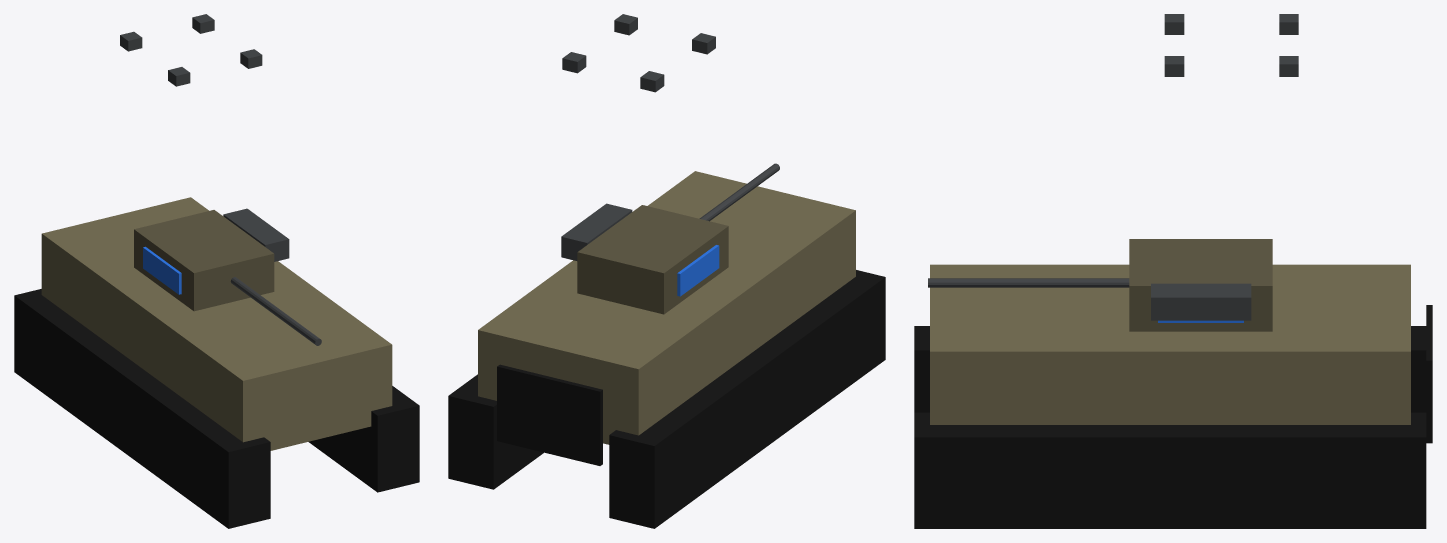
File: us_ifv.glb
3 renders of one model, left to right at view 1: azimuth 30°, elevation 25°; view 2: azimuth 150°, elevation 25°; view 3: azimuth 270°, elevation 25°, orthographic. The views are drawn at different scales.
Visible parts, largest first — view 1: hull, track_l, turret, track_r, upg_aps, missile_box, team_panel_l, barrel; view 2: hull, track_l, turret, rear_door, track_r, missile_box, upg_aps, team_panel_l, barrel; view 3: hull, track_r, turret, missile_box, track_l, barrel, upg_aps, rear_door.
Boxes of the visible parts, left/top/right/bottom form: hull: left=41, top=197, right=392, bottom=450; track_l: left=14, top=289, right=270, bottom=528; turret: left=134, top=210, right=274, bottom=311; track_r: left=308, top=386, right=419, bottom=492; upg_aps: left=120, top=14, right=262, bottom=86; missile_box: left=223, top=208, right=289, bottom=261; team_panel_l: left=143, top=246, right=181, bottom=294; barrel: left=230, top=277, right=321, bottom=345; hull: left=478, top=171, right=855, bottom=444; track_l: left=609, top=270, right=885, bottom=528; turret: left=577, top=205, right=728, bottom=314; rear_door: left=497, top=364, right=602, bottom=465; track_r: left=448, top=374, right=543, bottom=489; missile_box: left=561, top=203, right=632, bottom=260; upg_aps: left=562, top=14, right=715, bottom=92; team_panel_l: left=677, top=245, right=719, bottom=296; barrel: left=699, top=163, right=779, bottom=221; hull: left=930, top=264, right=1410, bottom=424; track_r: left=914, top=412, right=1426, bottom=528; turret: left=1129, top=239, right=1272, bottom=331; missile_box: left=1151, top=283, right=1251, bottom=320; track_l: left=914, top=326, right=1426, bottom=412; barrel: left=928, top=278, right=1129, bottom=287; upg_aps: left=1164, top=14, right=1298, bottom=76; rear_door: left=1426, top=305, right=1432, bottom=443.
Size of the model in its own units: 3.4 by 6.18 by 6.68.
